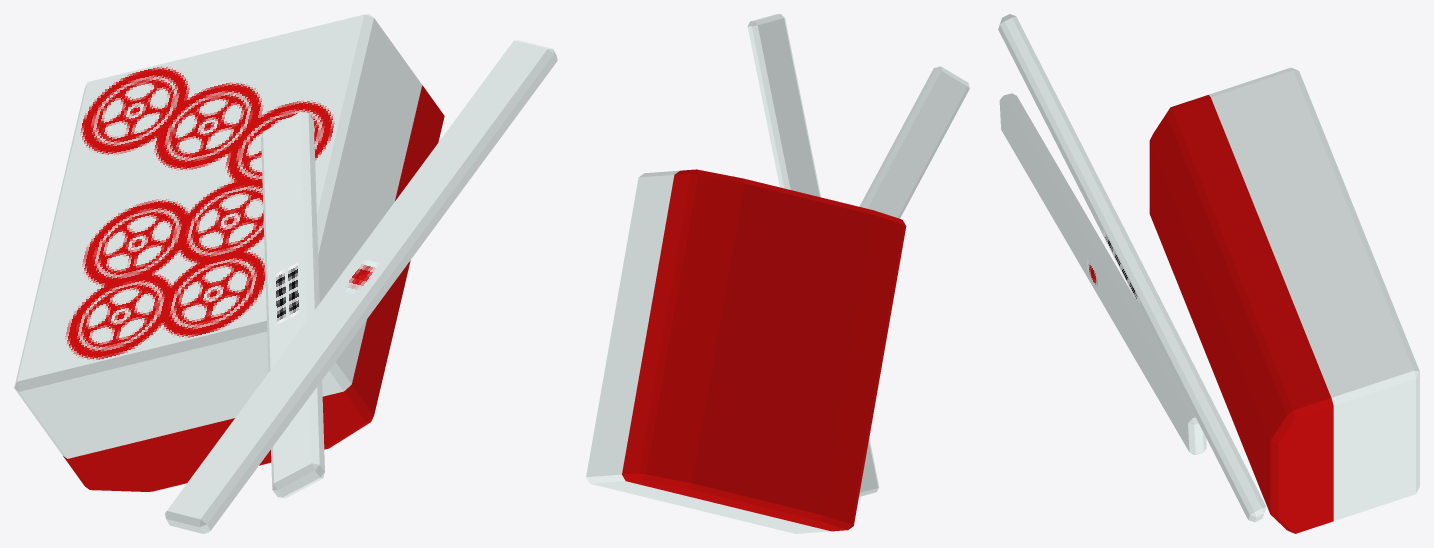
The model's file is ps2_save-icons_mahjonghaoudankyuubattleii.glb.
The picture shows the model from 3 angles, left to right: view 1: azimuth 30°, elevation 25°; view 2: azimuth 150°, elevation 25°; view 3: azimuth 270°, elevation 25°; orthographic projection. The views are drawn at different scales.
Parts seen in each view (by area): view 1: system.ico; view 2: system.ico; view 3: system.ico.
Boxes of the visible parts, left/top/right/bottom form: system.ico: left=14, top=14, right=557, bottom=533; system.ico: left=586, top=14, right=969, bottom=533; system.ico: left=998, top=14, right=1419, bottom=533.
Size of the model in its own units: 2.7 by 4.55 by 3.77.
Materials: 1 (1 with a texture image).
